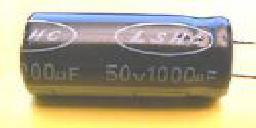Electrolytic-Capacitor: (20, 3, 234, 98)
